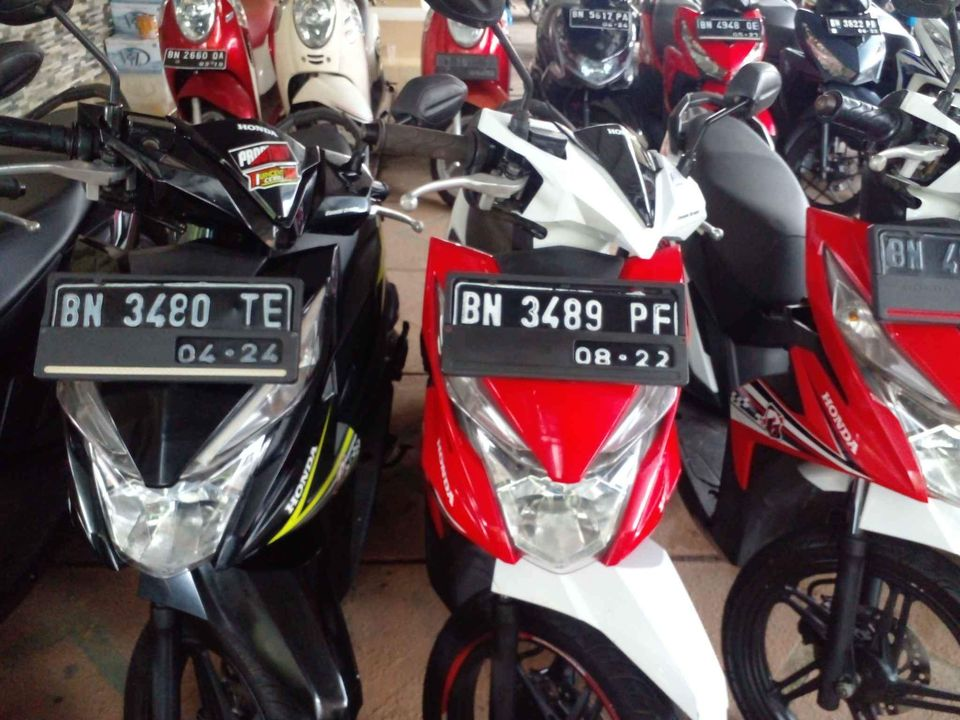plate: (447, 270, 696, 384), (40, 274, 297, 370)
